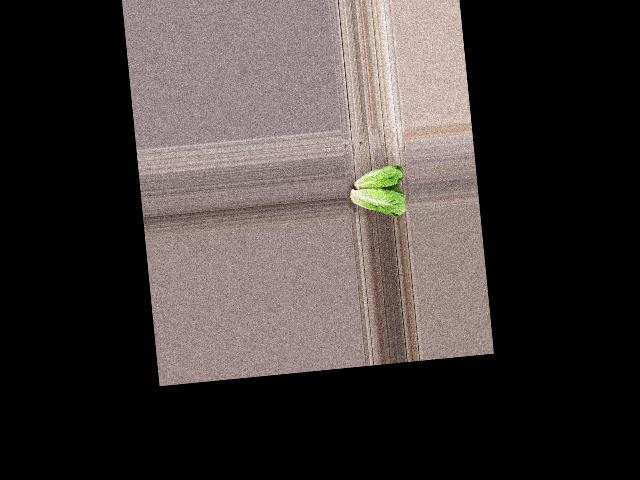lettuce: (346, 183, 409, 221)
